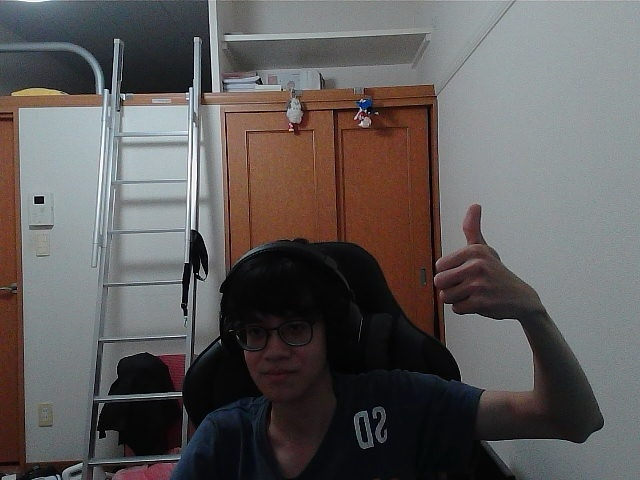thumb_up: (441, 211, 519, 307)
